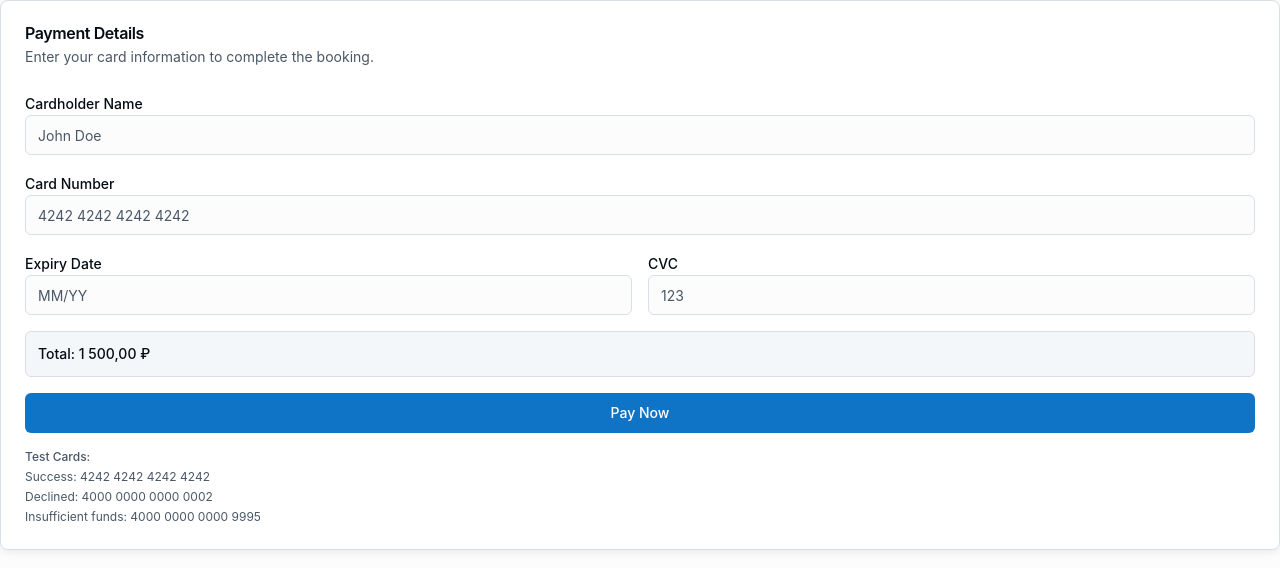
it: PaymentForm › form validation › formats expiry with slash
Type "1225" into the field labelled "Expiry Date" at {"x": 328, "y": 295}, box left=25, top=275, right=632, bottom=315
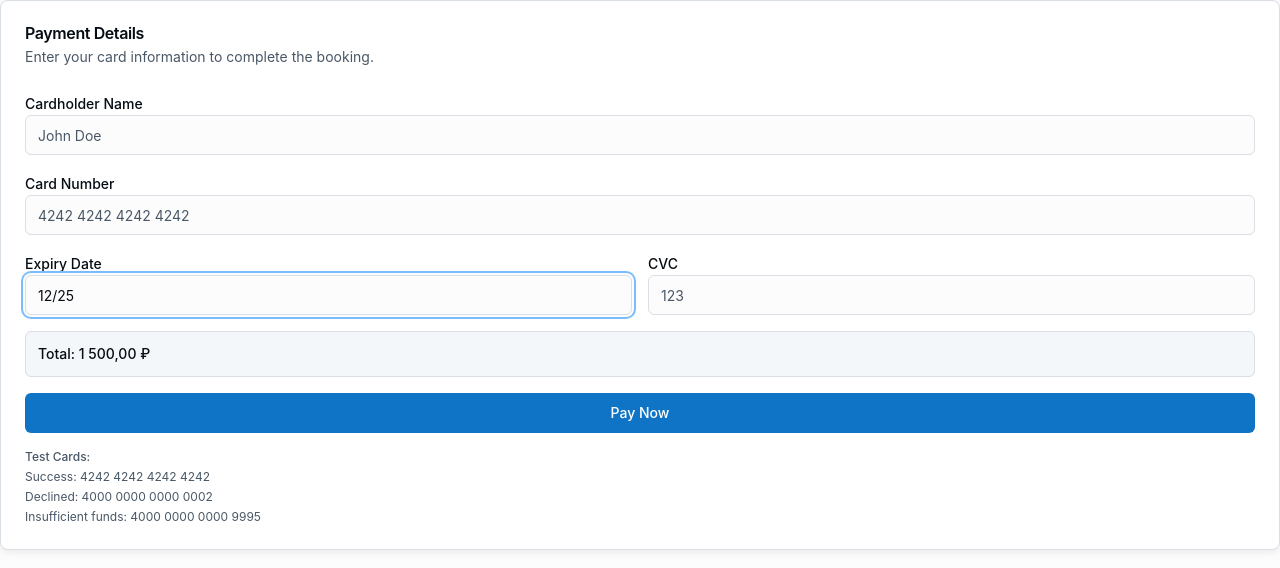
expect the field labelled "Expiry Date" holds "12/25": met, box left=25, top=275, right=632, bottom=315
